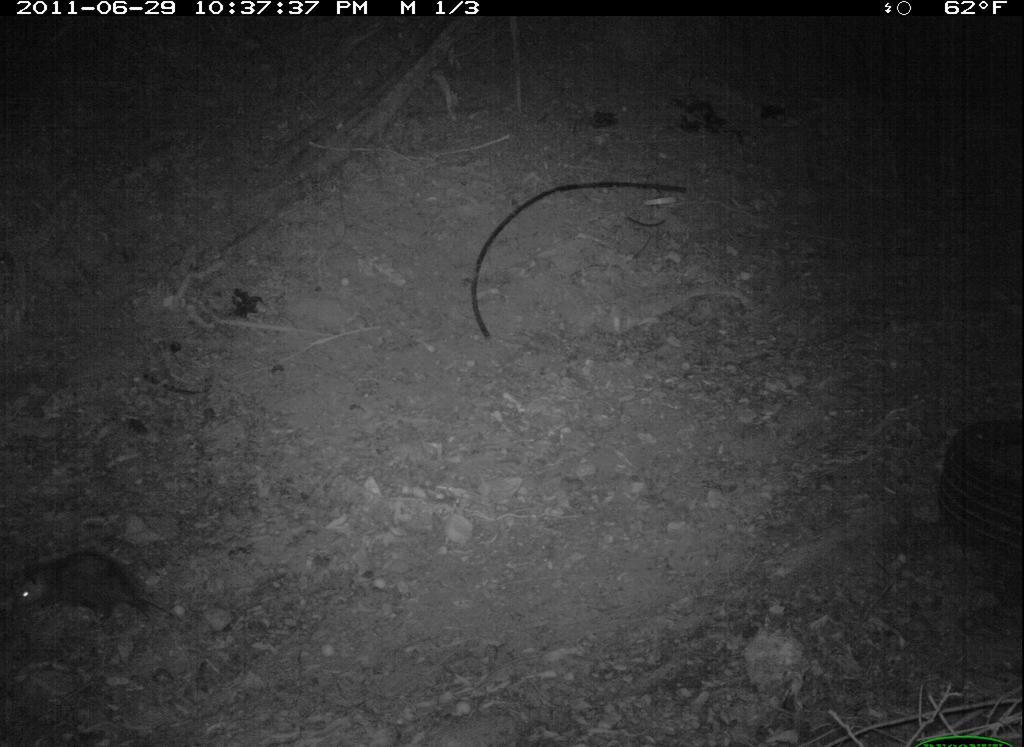opossum: (6, 541, 175, 647)
